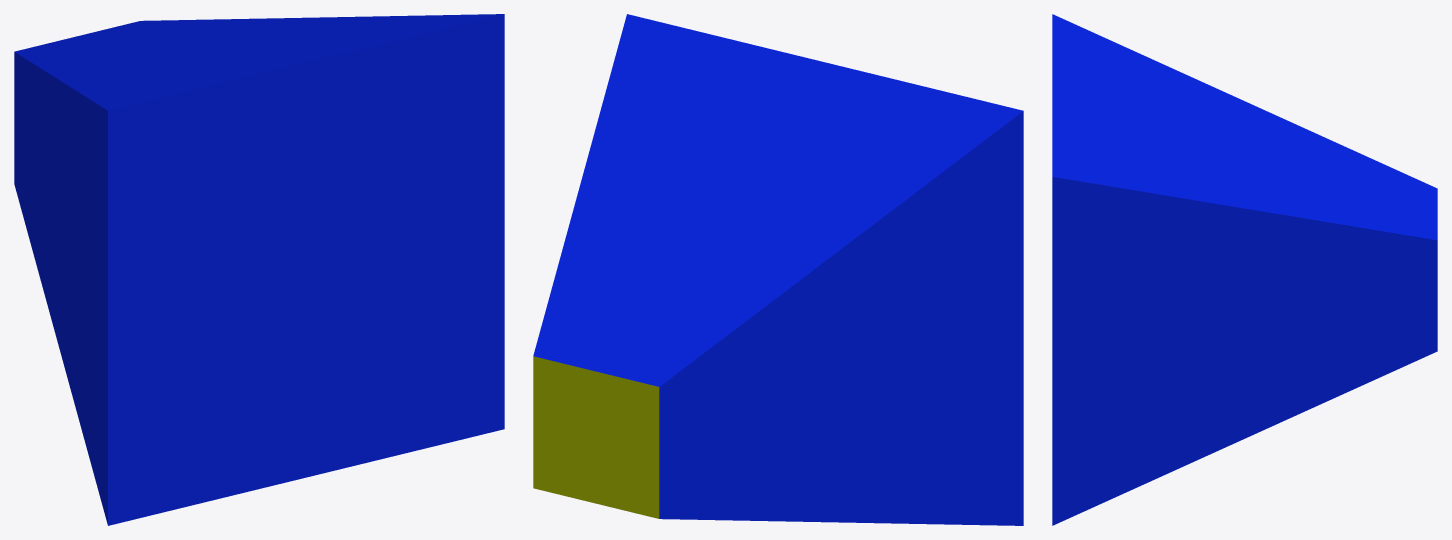
The model's file is cubeToUnity.fbx.
3 renders of one model, left to right at view 1: azimuth 30°, elevation 25°; view 2: azimuth 150°, elevation 25°; view 3: azimuth 270°, elevation 25°, orthographic. The views are drawn at different scales.
Visible parts, largest first — view 1: Cube; view 2: Cube; view 3: Cube.
Boxes of the visible parts, <box> form: Cube: <box>14,14,504,525</box>; Cube: <box>533,14,1023,525</box>; Cube: <box>1052,14,1437,525</box>.
Bounding box in the file's own units: 200 × 200 × 200.
